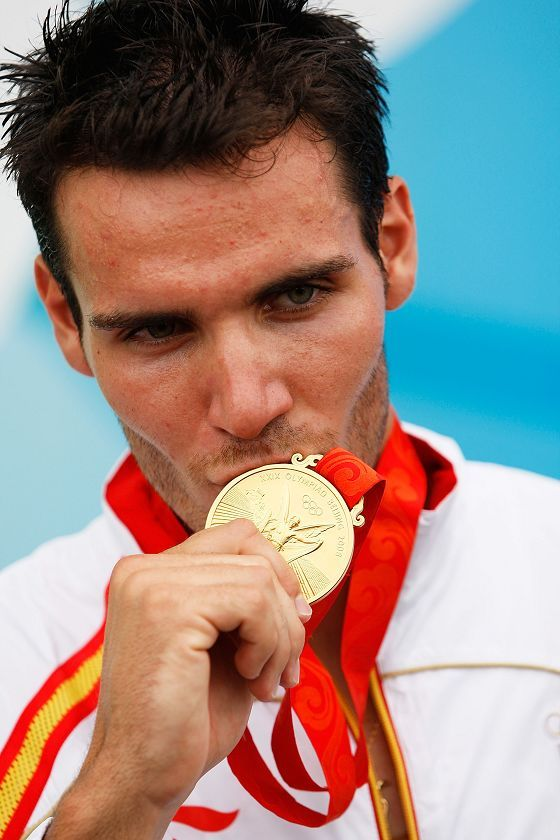face: (82, 116, 389, 562)
